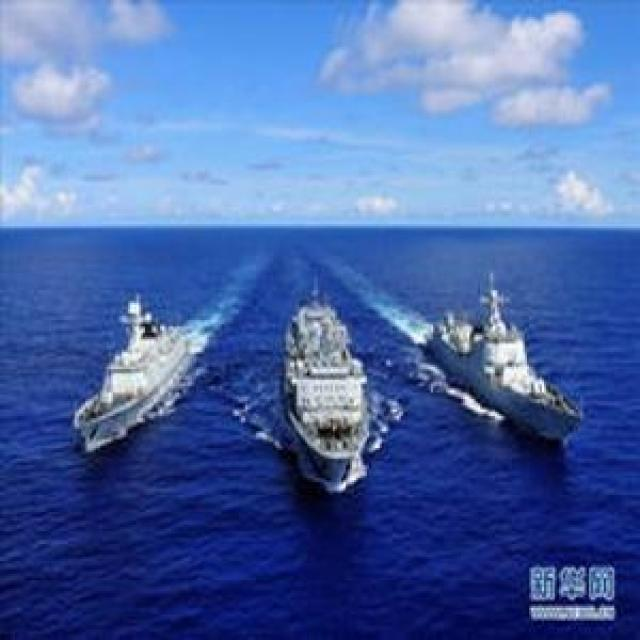navalvessels: (423, 268, 568, 452), (252, 294, 386, 486), (72, 271, 199, 451)
